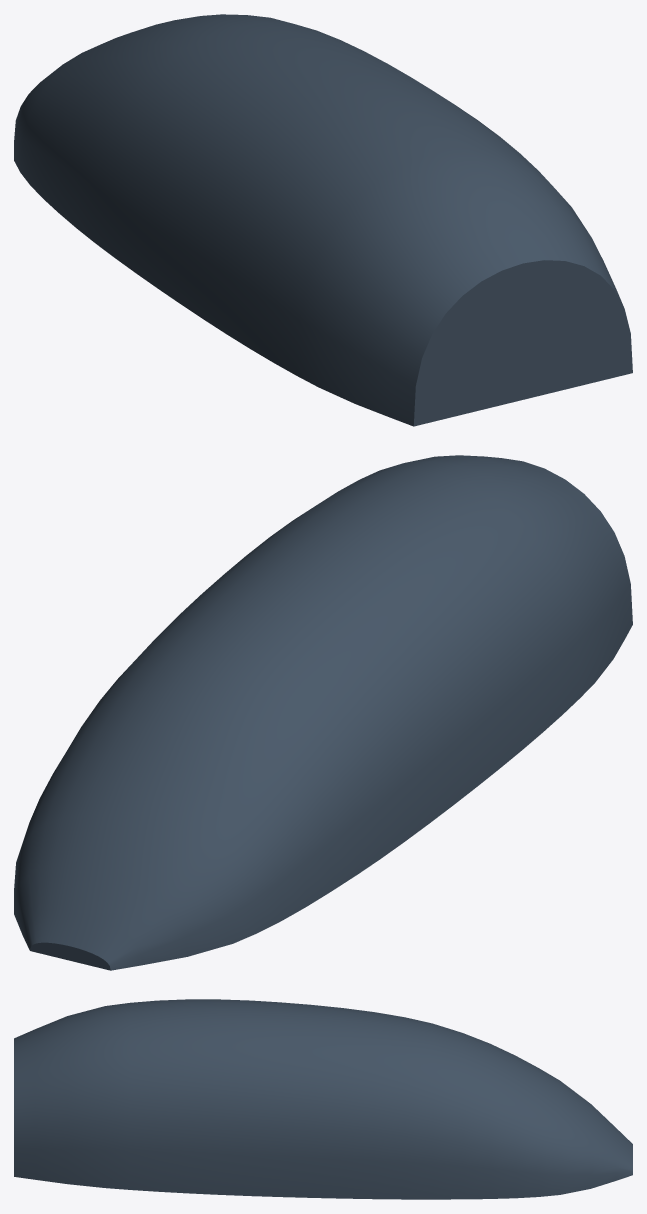
File: Cabina.fbx
3 renders of one model, top to bottom at view 1: azimuth 30°, elevation 25°; view 2: azimuth 150°, elevation 25°; view 3: azimuth 270°, elevation 25°, orthographic. The views are drawn at different scales.
Visible parts, largest first — view 1: Cabina; view 2: Cabina; view 3: Cabina.
Boxes of the visible parts, x1,y1,x2,y2 form: Cabina: [14, 14, 632, 426]; Cabina: [14, 455, 632, 970]; Cabina: [14, 999, 632, 1199].
Bounding box in the file's own units: 256 × 184 × 680.
